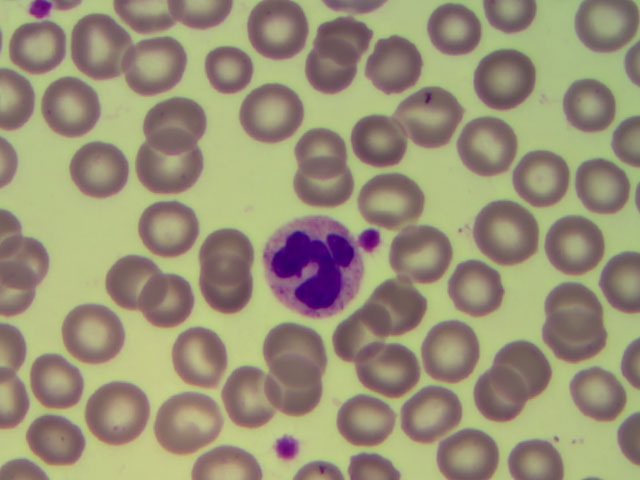Platelets: (276, 434, 294, 457), (359, 231, 377, 253), (30, 1, 48, 15)
RBC: (137, 132, 203, 197), (88, 378, 148, 445), (69, 16, 131, 79), (242, 85, 301, 143), (447, 261, 506, 319), (389, 226, 448, 284), (362, 168, 421, 226), (264, 324, 323, 382), (158, 391, 217, 449), (170, 326, 229, 384), (456, 116, 515, 174), (474, 51, 533, 109), (222, 369, 281, 427), (29, 404, 88, 462), (31, 355, 90, 413), (437, 429, 503, 480), (42, 81, 101, 137), (511, 148, 570, 204), (361, 280, 420, 336), (336, 305, 395, 361), (423, 321, 482, 377), (474, 362, 533, 418), (490, 338, 549, 394), (542, 280, 601, 336), (543, 309, 602, 365), (477, 204, 536, 260), (544, 217, 603, 273), (360, 341, 419, 397), (335, 394, 394, 450), (403, 387, 462, 443), (107, 250, 166, 306), (573, 153, 632, 209), (349, 110, 408, 166), (407, 87, 466, 143), (247, 1, 308, 54), (574, 1, 636, 53), (368, 37, 422, 95), (142, 102, 203, 153), (62, 309, 124, 359), (292, 154, 352, 205), (70, 140, 125, 195), (139, 203, 198, 254), (201, 227, 257, 279), (567, 367, 623, 417), (1, 231, 49, 289), (141, 275, 195, 326), (125, 40, 182, 88), (561, 80, 616, 129), (427, 3, 482, 52), (291, 128, 343, 179), (202, 262, 254, 312), (204, 48, 254, 97), (600, 250, 640, 311), (508, 440, 567, 480), (197, 445, 260, 480), (113, 1, 178, 31), (1, 261, 35, 317), (1, 65, 32, 126), (169, 1, 235, 29), (486, 1, 533, 28), (292, 461, 354, 480)
WBC: (265, 216, 359, 314)
